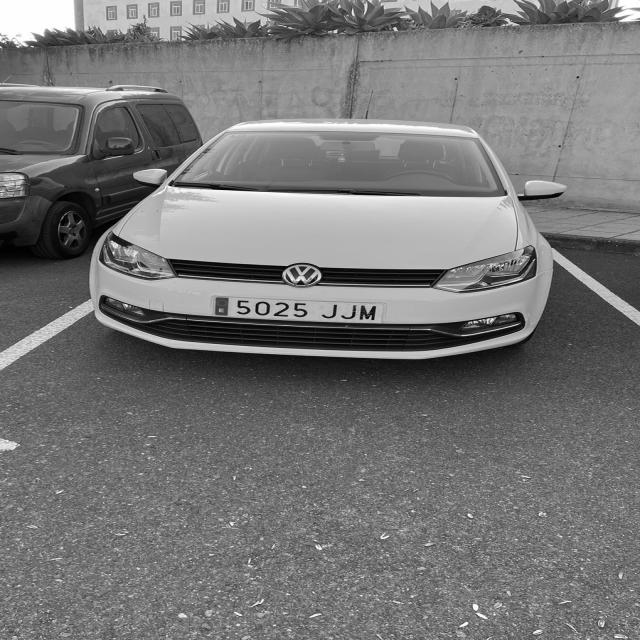License-Plate: (210, 293, 386, 325)
